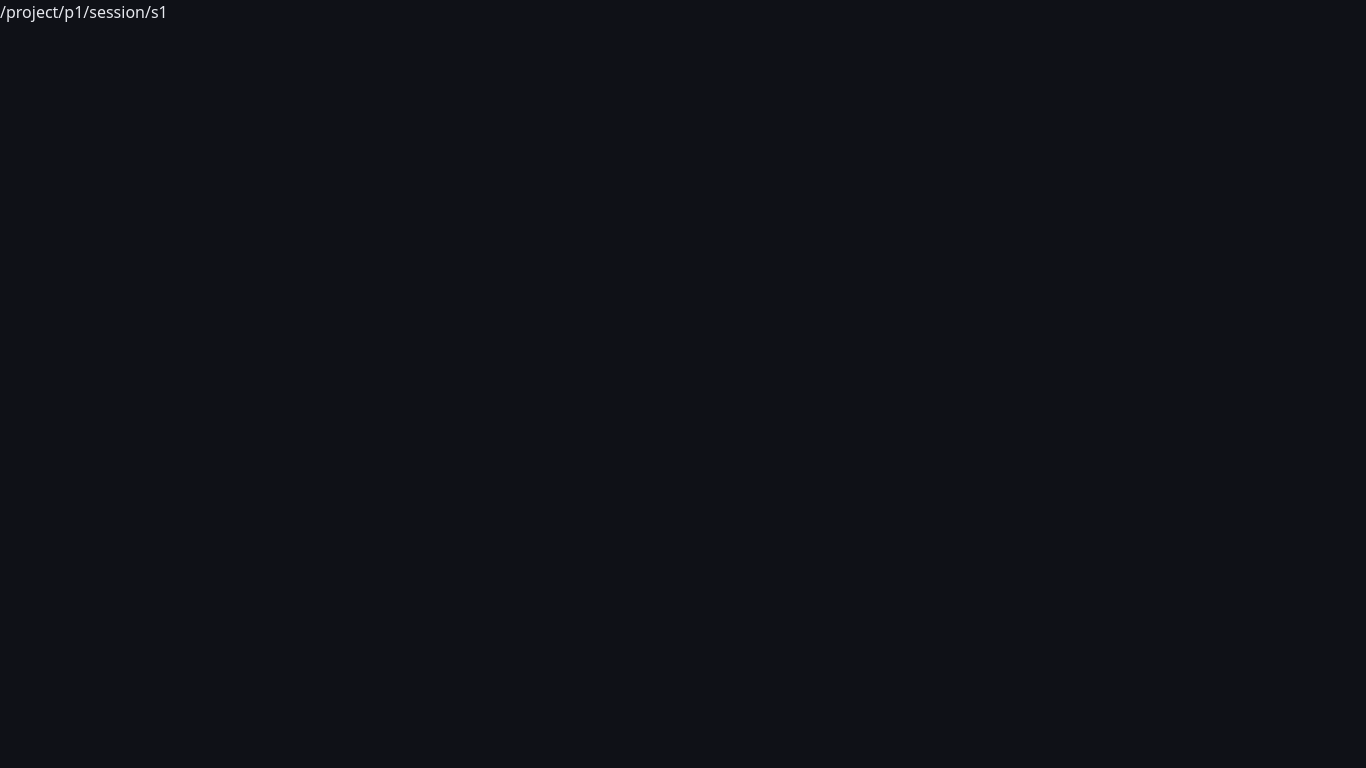
Test: the IME guard › does not run the highlighted command on a candidate confirmation
This screenshot has width=1366, height=768.
Press k
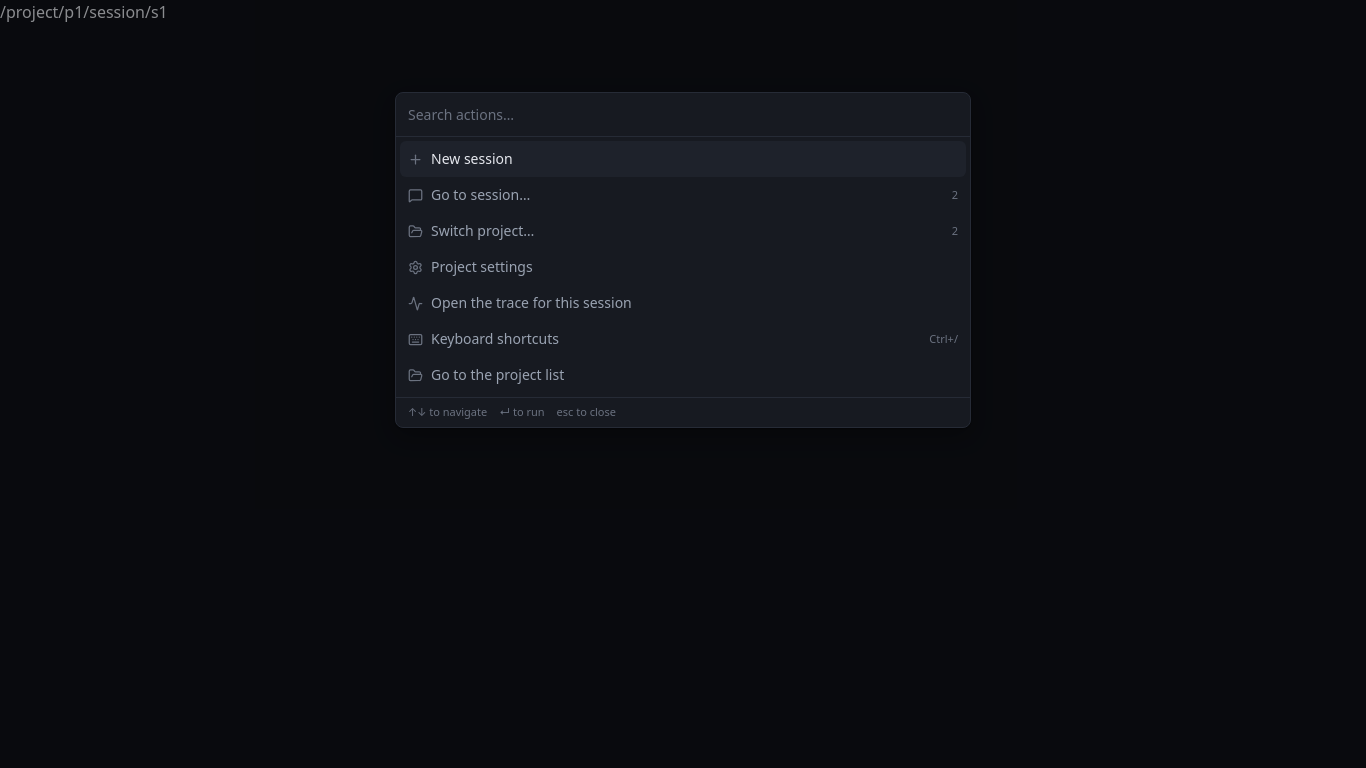
Click the text "Go to session…" at (481, 195), box top-left (431, 185), bottom-right (530, 204)
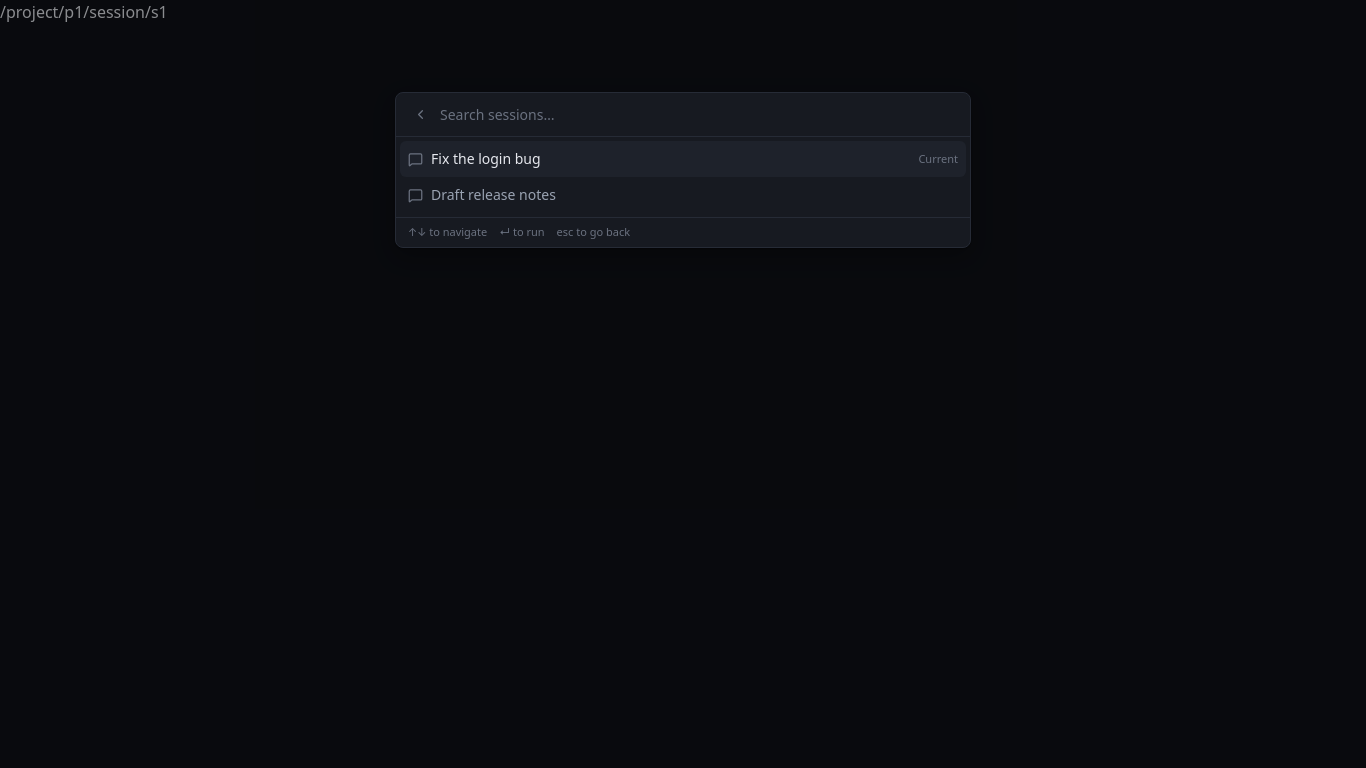
Press Enter in the dropdown with placeholder "Search sessions…", box top-left (440, 93), bottom-right (958, 136)
Press Enter in the dropdown with placeholder "Search sessions…", box top-left (440, 93), bottom-right (958, 136)
Press Process in the dropdown with placeholder "Search sessions…", box top-left (440, 93), bottom-right (958, 136)
Expected: the text with test id "path" reads "/project/p1/session/s1", top-left (0, 1), bottom-right (168, 23)
Now the dropdown with placeholder "Search sessions…" is shown
Type "release" into the dropdown with placeholder "Search sessions…" at (699, 115), box top-left (440, 93), bottom-right (958, 136)
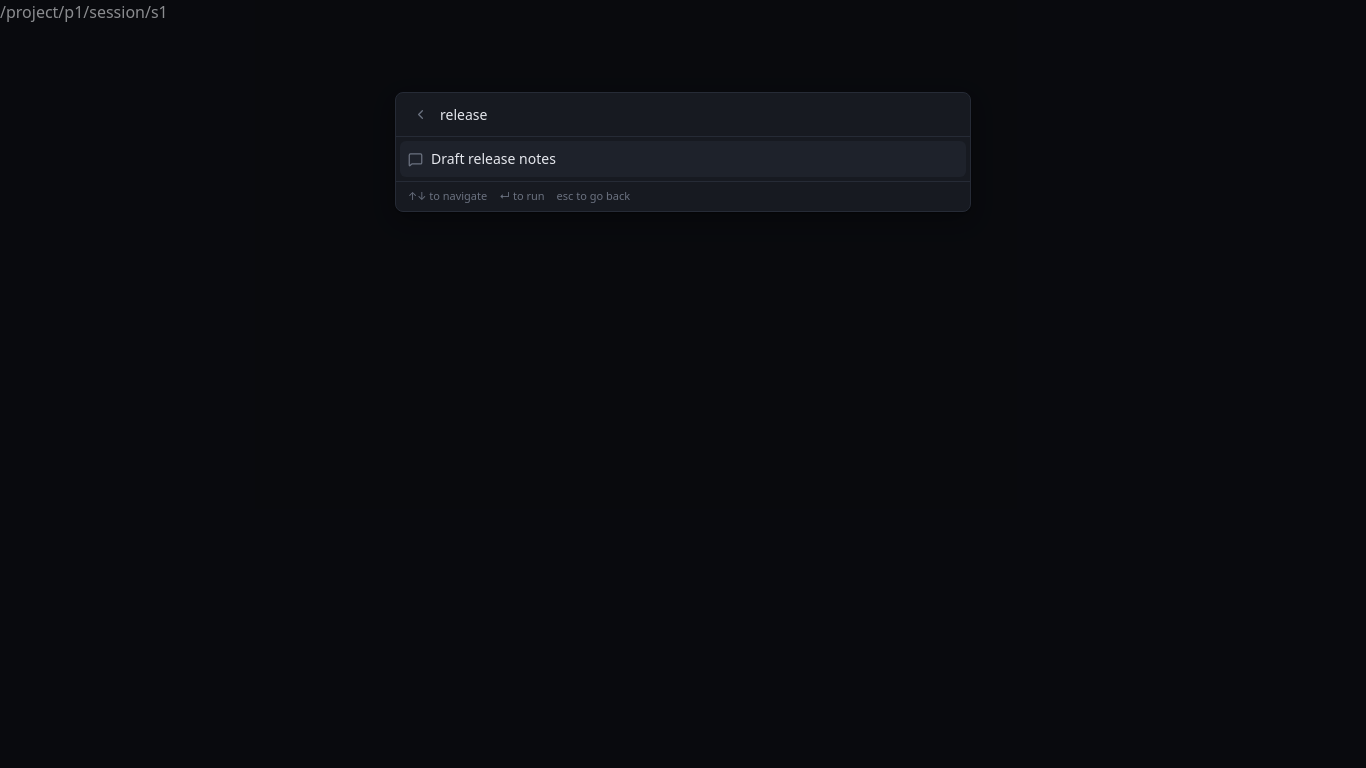
Press Enter in the dropdown with placeholder "Search sessions…", box top-left (440, 93), bottom-right (958, 136)
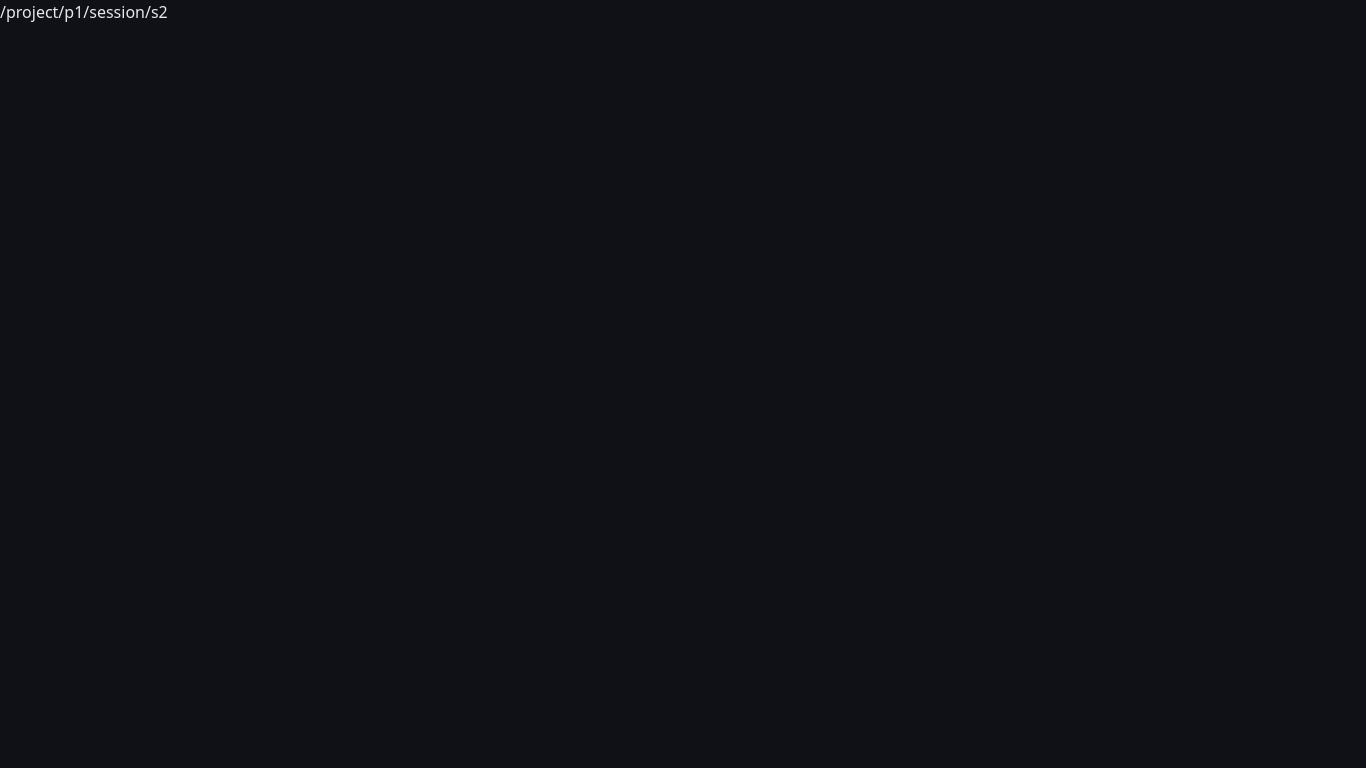
Now the text with test id "path" reads "/project/p1/session/s2", box top-left (0, 1), bottom-right (168, 23)
